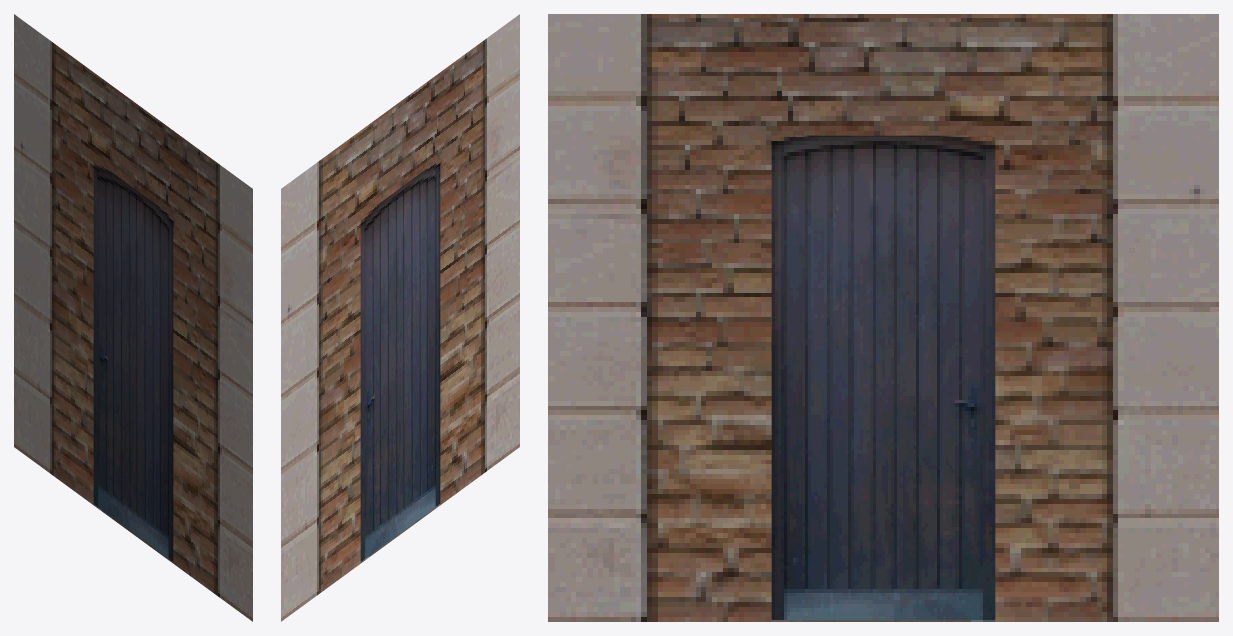
The model's file is fancy_brick_wall_door.glb.
The picture shows the model from 3 angles, left to right: view 1: azimuth 30°, elevation 25°; view 2: azimuth 150°, elevation 25°; view 3: azimuth 270°, elevation 25°; orthographic projection. The views are drawn at different scales.
Parts seen in each view (by area): view 1: fancy_brick_wall_door; view 2: fancy_brick_wall_door; view 3: fancy_brick_wall_door.
Part boxes in pixels (bbox=[...]): fancy_brick_wall_door: bbox=[14, 14, 252, 621]; fancy_brick_wall_door: bbox=[281, 14, 519, 621]; fancy_brick_wall_door: bbox=[548, 14, 1218, 621].
Bounding box in the file's own units: 0 × 3 × 3.
1 material, 1 textured.
